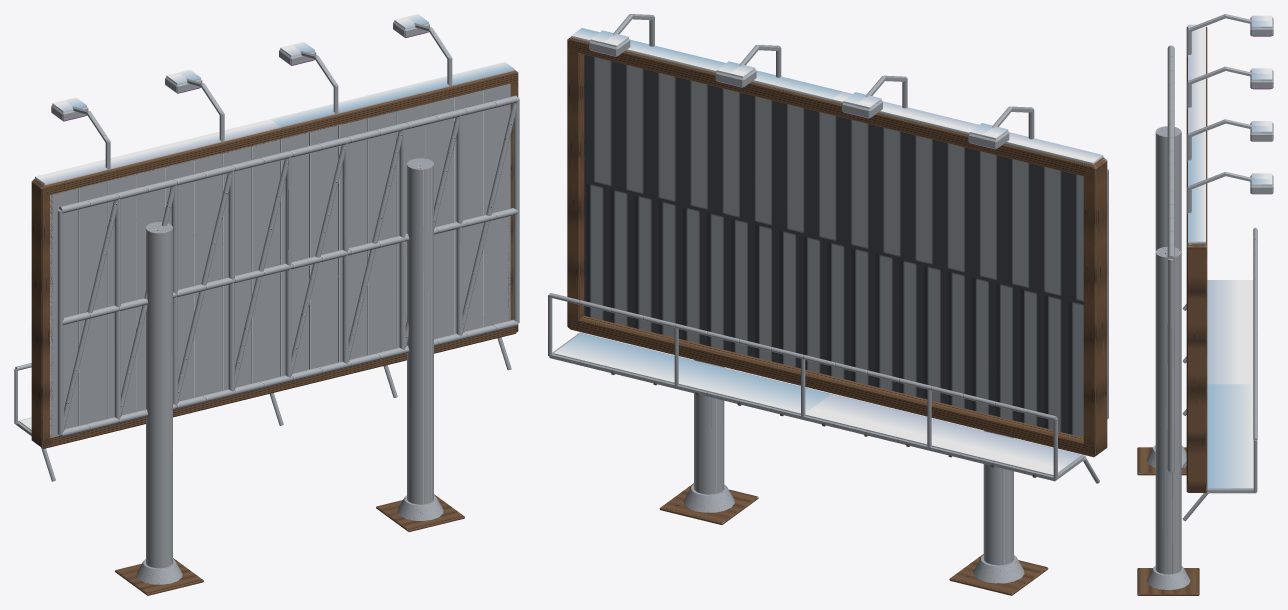
Rendered from ck_billboard_arrow.fbx.
3 renders of one model, left to right at view 1: azimuth 30°, elevation 25°; view 2: azimuth 150°, elevation 25°; view 3: azimuth 270°, elevation 25°, orthographic. The views are drawn at different scales.
Parts seen in each view (by area): view 1: ck_billboard_arrow; view 2: ck_billboard_arrow; view 3: ck_billboard_arrow.
Part boxes in pixels (x1,y1,x2,y2): ck_billboard_arrow: (14,14,519,595); ck_billboard_arrow: (548,14,1108,595); ck_billboard_arrow: (1137,14,1273,595).
Bounding box in the file's own units: 2010 × 1829 × 525.
